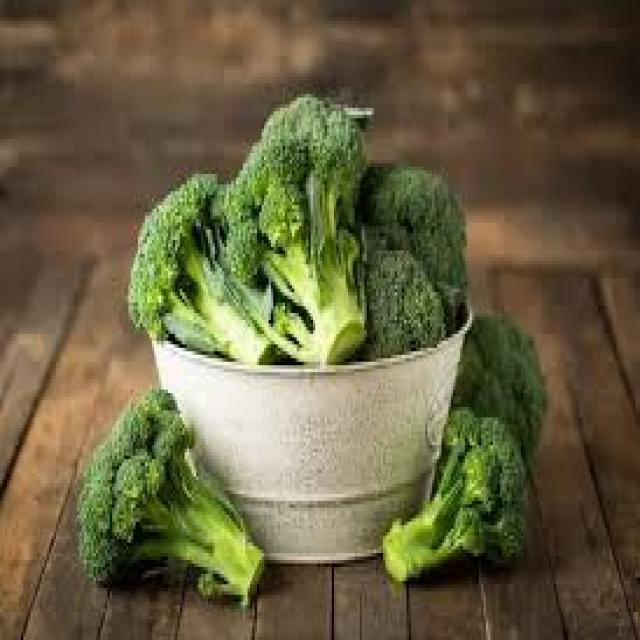broccoli: (45, 351, 279, 640), (233, 106, 458, 374), (118, 154, 320, 378), (399, 402, 542, 579), (466, 310, 550, 427)
